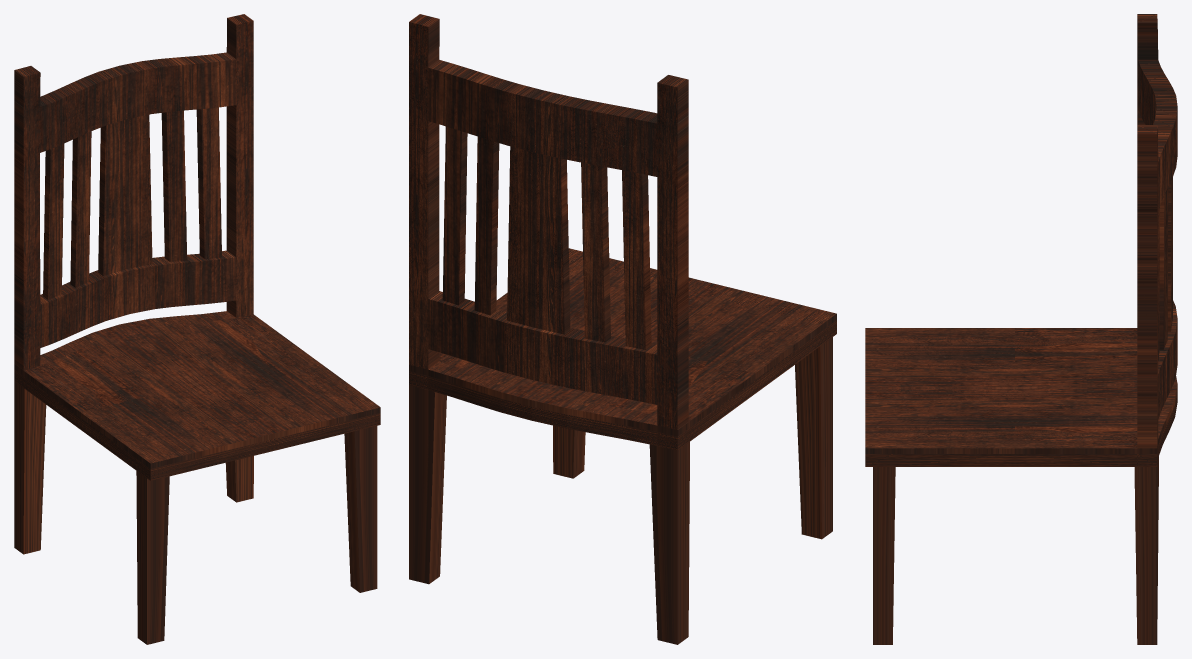
File: dining chair.glb
The picture shows the model from 3 angles, left to right: view 1: azimuth 30°, elevation 25°; view 2: azimuth 150°, elevation 25°; view 3: azimuth 270°, elevation 25°; orthographic projection. The views are drawn at different scales.
Visible parts, largest first — view 1: Cube; view 2: Cube; view 3: Cube.
Boxes of the visible parts, x1,y1,x2,y2 form: Cube: [14, 14, 380, 644]; Cube: [409, 14, 836, 644]; Cube: [865, 14, 1177, 644].
Bounding box in the file's own units: 0.44 × 0.8724 × 0.4832.
Materials: 1 (1 with a texture image).
